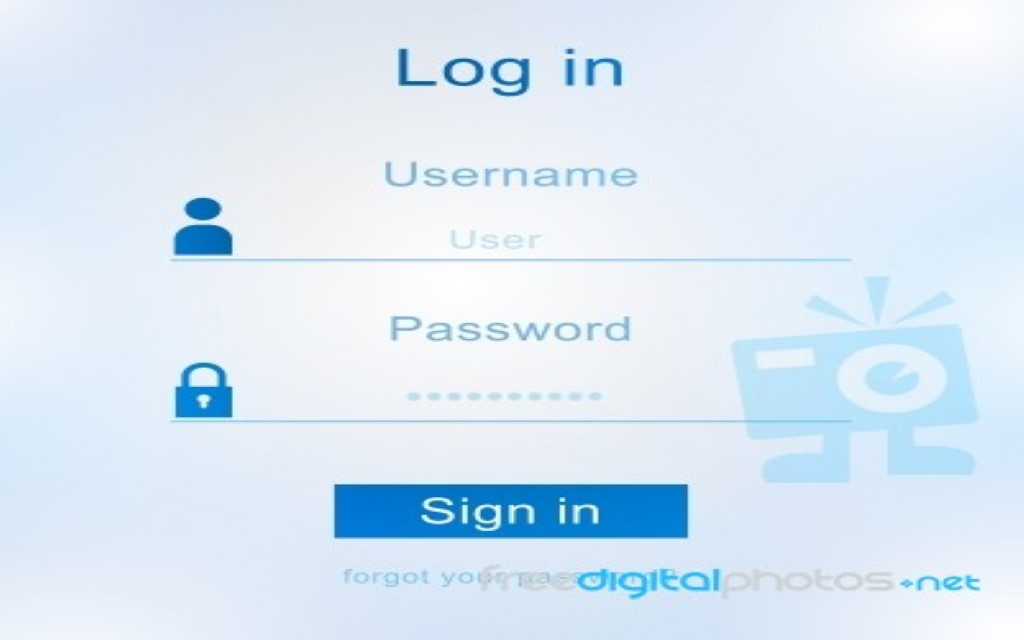button: (334, 485, 688, 539)
button_SignIn: (335, 486, 690, 543)
label_Login: (388, 39, 637, 101)
label_SignIn: (416, 493, 602, 531)
label_Username: (383, 155, 646, 192)
label_password: (385, 305, 634, 345)
textbox: (243, 362, 848, 421), (240, 202, 849, 258)
